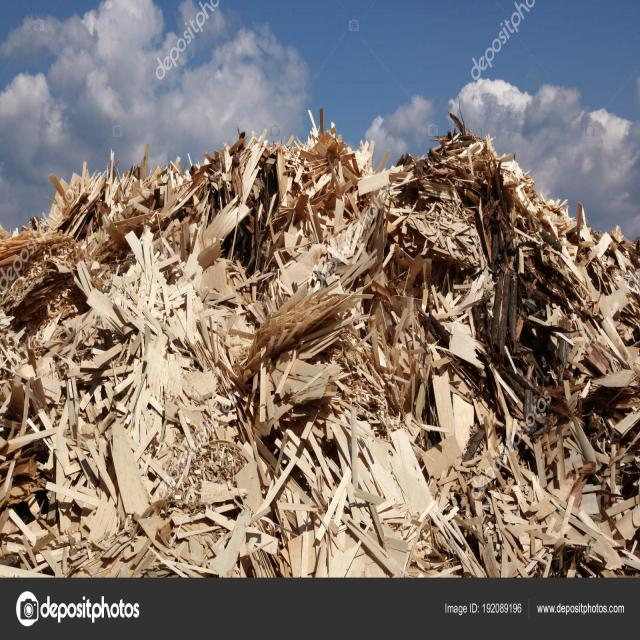green waste: (3, 75, 629, 569)
